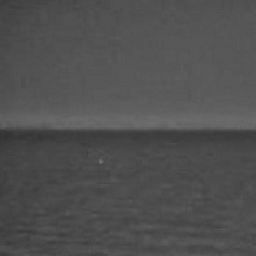Target: (96, 157, 104, 165)
